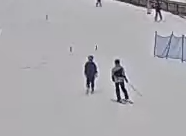skier: (106, 55, 146, 110), (79, 50, 103, 100)
